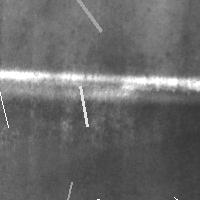scratches: (1, 67, 199, 96), (69, 0, 106, 36), (0, 31, 13, 132), (75, 81, 92, 131), (47, 177, 76, 200), (169, 192, 200, 200), (93, 194, 116, 200)
